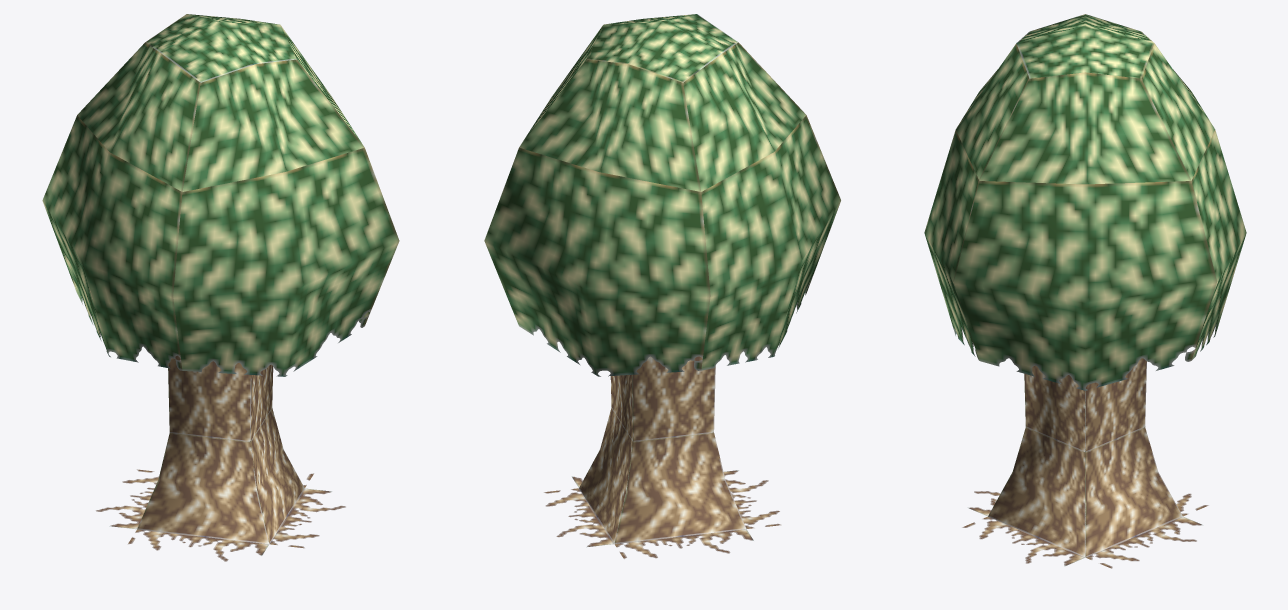
The model's file is grasslands_Tree_lowPoly.fbx.
The picture shows the model from 3 angles, left to right: view 1: azimuth 30°, elevation 25°; view 2: azimuth 150°, elevation 25°; view 3: azimuth 270°, elevation 25°; orthographic projection.
Parts seen in each view (by area): view 1: grasslands_Tree_lowPoly; view 2: grasslands_Tree_lowPoly; view 3: grasslands_Tree_lowPoly.
Part boxes in pixels (x1,y1,x2,y2): grasslands_Tree_lowPoly: [42, 14, 399, 561]; grasslands_Tree_lowPoly: [484, 14, 840, 559]; grasslands_Tree_lowPoly: [924, 14, 1246, 568].
Size of the model in its own units: 3.82 by 5.49 by 3.82.
